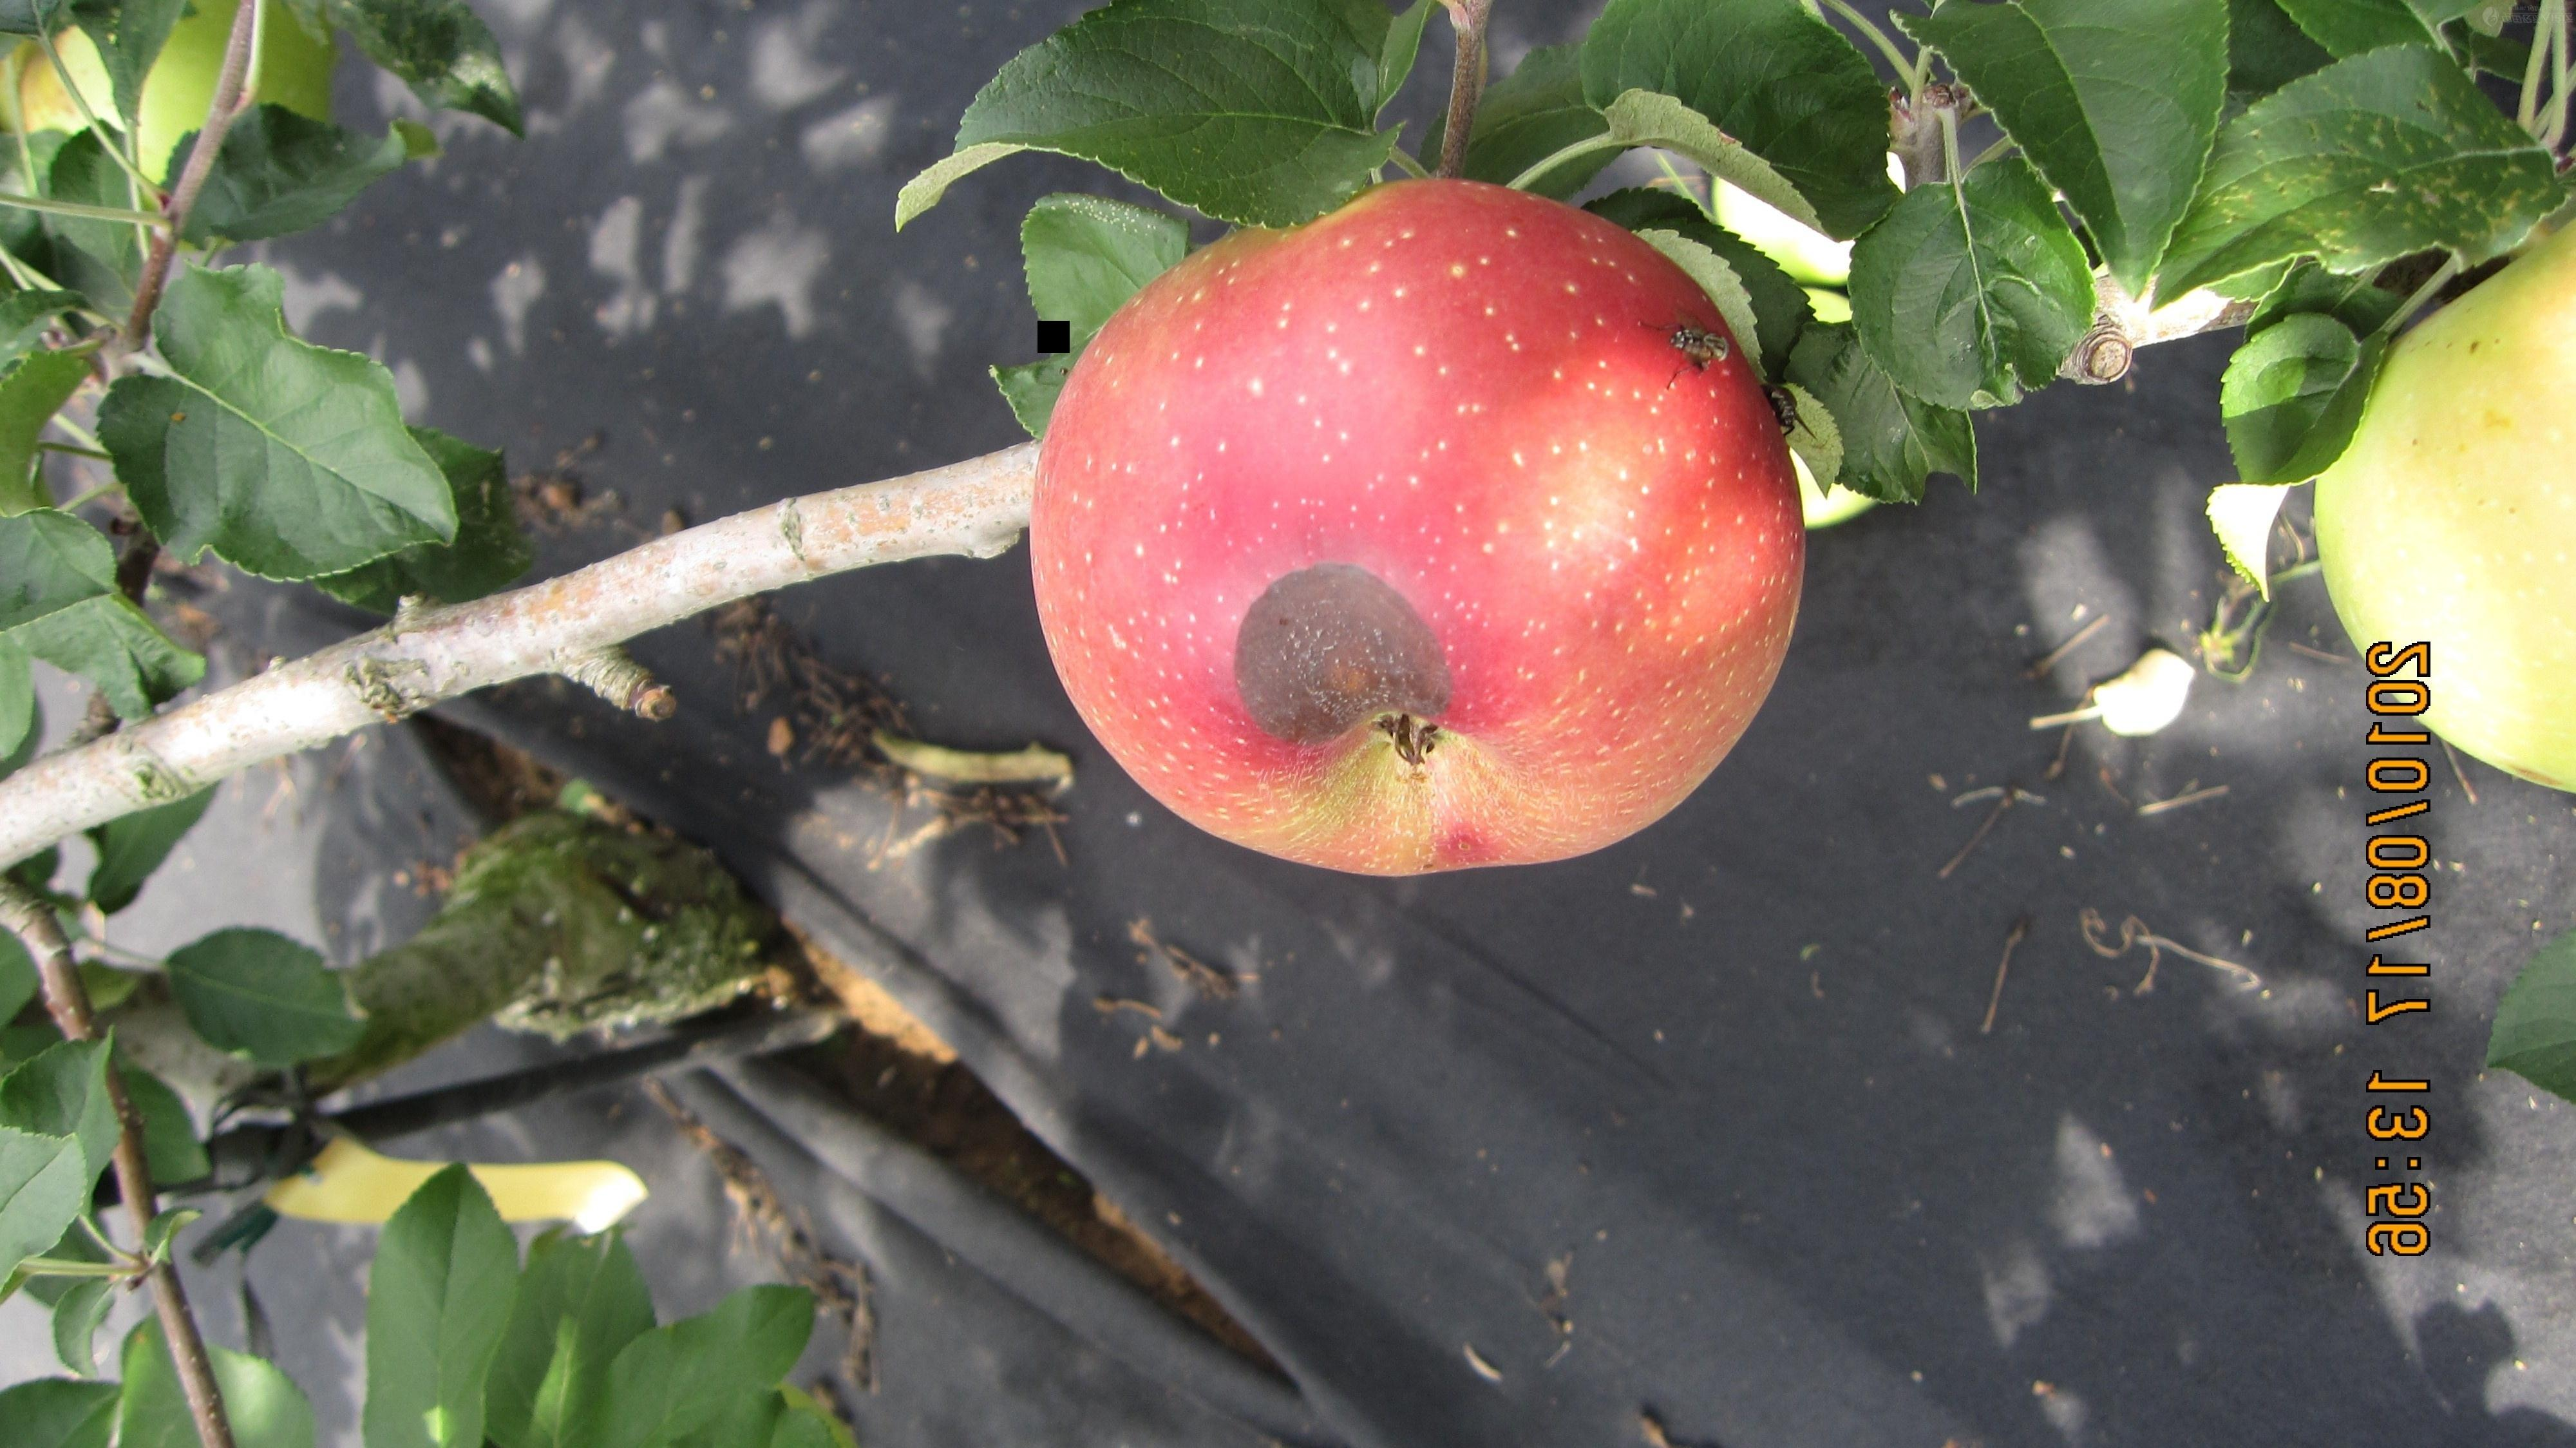rotten apple: (1017, 177, 1833, 887)
